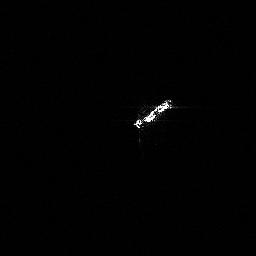ship: (133, 99, 173, 127)
